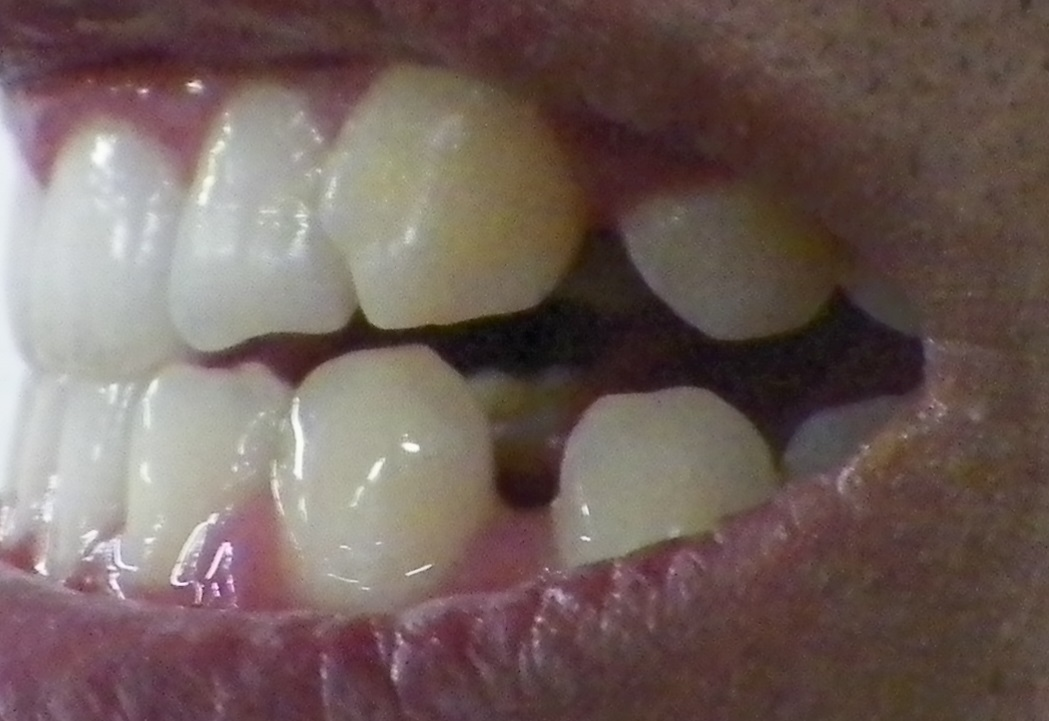boca: (24, 68, 866, 570)
